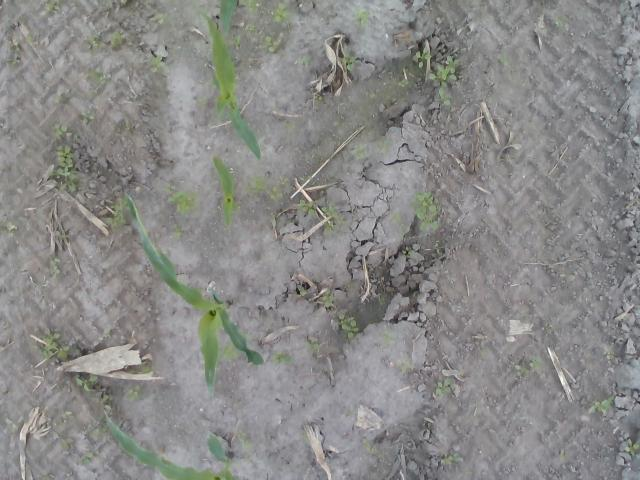Maize: (128, 193, 264, 400), (191, 0, 262, 160), (100, 408, 245, 480), (210, 153, 240, 227)
Weeds: (49, 122, 82, 194), (429, 56, 462, 106), (409, 190, 441, 232), (40, 328, 80, 361), (247, 22, 284, 54), (164, 185, 200, 215), (102, 194, 130, 226), (332, 313, 359, 338), (79, 64, 112, 84), (590, 394, 614, 416), (410, 47, 430, 73), (340, 47, 360, 72), (150, 55, 176, 74), (243, 175, 269, 194), (270, 0, 289, 25), (75, 373, 97, 394), (434, 375, 454, 396), (151, 9, 177, 25), (270, 350, 296, 366), (53, 408, 73, 428), (391, 358, 416, 374), (110, 31, 130, 50), (220, 340, 239, 359), (234, 430, 254, 448), (374, 136, 394, 154), (86, 32, 106, 50), (238, 0, 259, 17), (91, 414, 109, 433), (382, 328, 400, 346), (298, 198, 316, 216), (351, 7, 368, 26), (526, 352, 544, 369), (304, 335, 321, 353), (77, 109, 97, 124), (42, 0, 62, 15), (441, 452, 464, 465), (47, 255, 61, 276), (127, 384, 144, 401), (624, 438, 640, 456), (322, 287, 334, 311), (2, 416, 18, 433), (1, 218, 18, 234), (352, 144, 369, 160), (266, 186, 283, 202), (321, 202, 336, 217), (196, 95, 210, 111), (388, 207, 401, 224), (296, 55, 316, 66), (79, 453, 97, 465), (513, 364, 528, 378), (228, 32, 240, 49), (398, 80, 418, 90), (494, 54, 512, 65), (171, 224, 185, 237), (324, 220, 337, 234), (38, 470, 56, 480), (60, 438, 74, 450), (96, 394, 112, 404), (276, 176, 290, 187), (402, 246, 416, 257), (281, 119, 295, 129), (552, 15, 560, 32), (359, 438, 370, 450), (86, 87, 98, 98), (367, 91, 377, 104), (3, 57, 17, 66), (432, 239, 440, 254), (334, 214, 346, 224), (270, 215, 278, 229), (558, 450, 568, 460), (102, 327, 112, 337), (312, 95, 322, 105), (207, 79, 217, 88), (607, 352, 616, 360), (544, 322, 552, 331), (299, 176, 311, 182), (46, 442, 54, 450), (142, 368, 152, 374)
